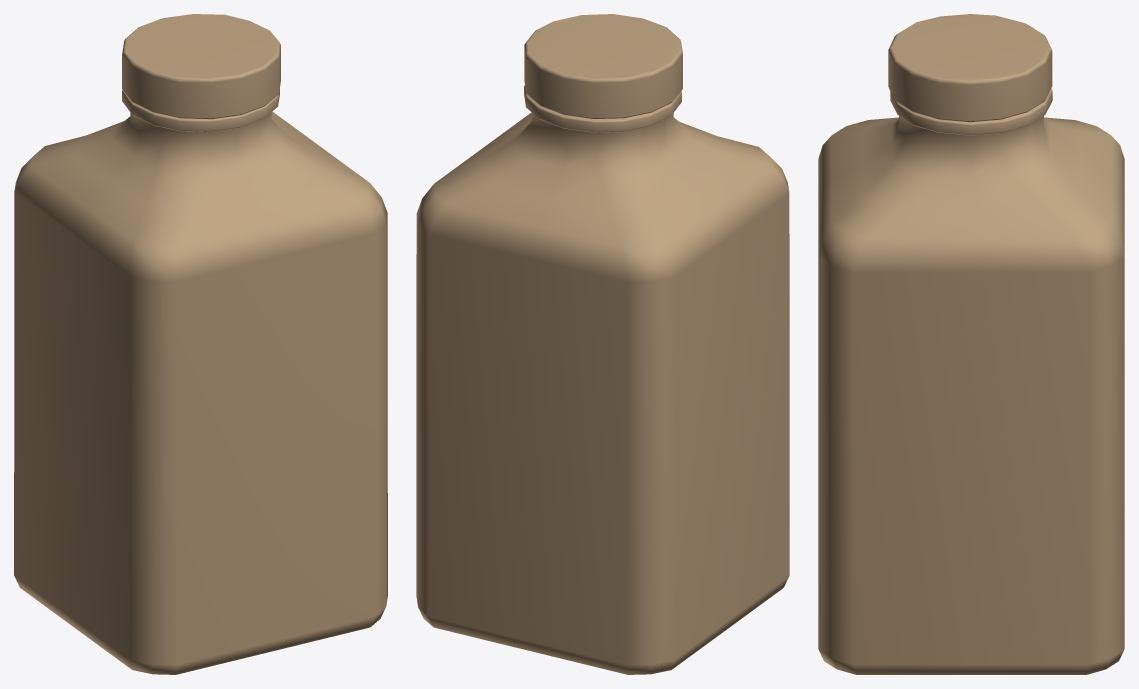
Rendered from SM_Jar_01_Unity.fbx.
The picture shows the model from 3 angles, left to right: view 1: azimuth 30°, elevation 25°; view 2: azimuth 150°, elevation 25°; view 3: azimuth 270°, elevation 25°; orthographic projection. The views are drawn at different scales.
Visible parts, largest first — view 1: SM_Jar_01; view 2: SM_Jar_01; view 3: SM_Jar_01.
Boxes of the visible parts, x1,y1,x2,y2 form: SM_Jar_01: (14,14,387,674); SM_Jar_01: (416,14,789,674); SM_Jar_01: (818,14,1124,674).
Bounding box in the file's own units: 10.17 × 20.94 × 10.17.
